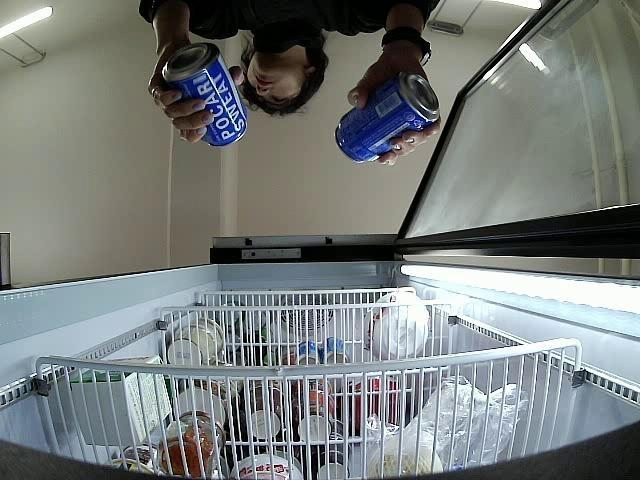13_pocariSweat: (334, 71, 440, 164), (162, 42, 248, 146)
